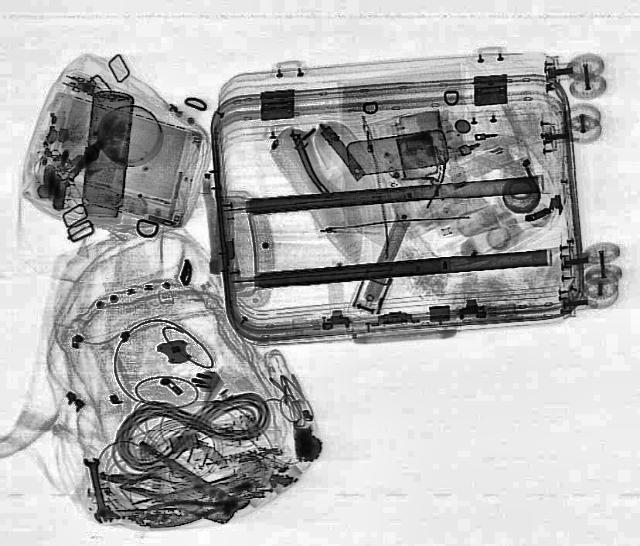Pliers: (104, 438, 250, 538), (142, 490, 250, 530)
Wrench: (81, 458, 112, 520)
